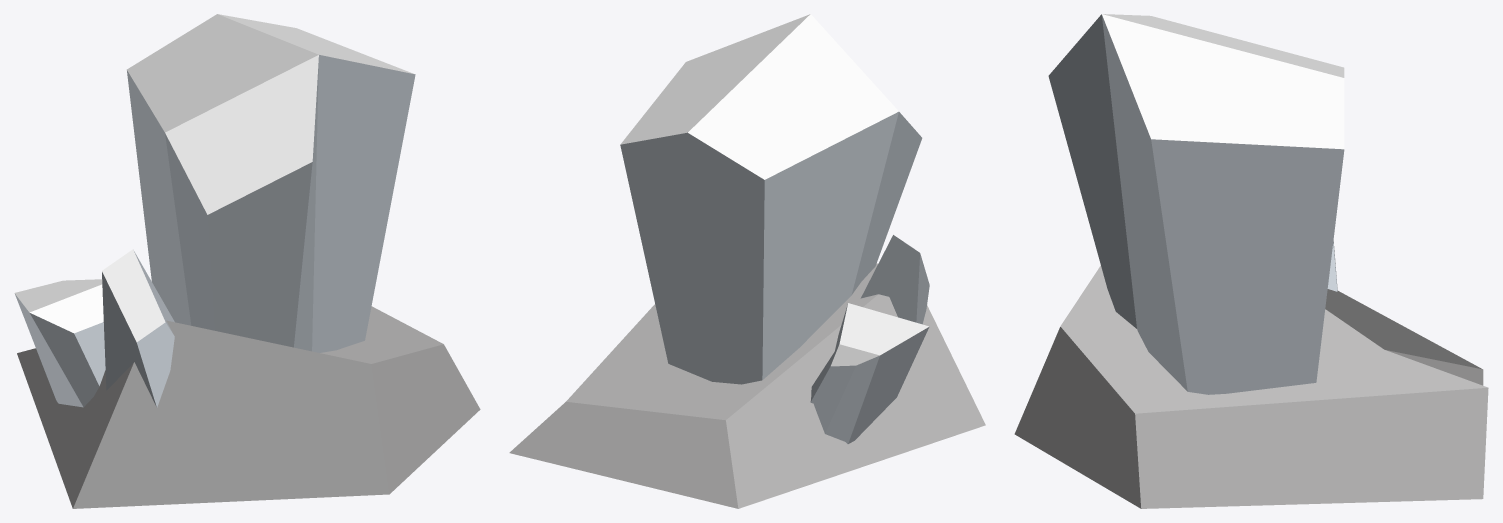
File: Crystal1.fbx
3 renders of one model, left to right at view 1: azimuth 30°, elevation 25°; view 2: azimuth 150°, elevation 25°; view 3: azimuth 270°, elevation 25°, orthographic. The views are drawn at different scales.
Parts seen in each view (by area): view 1: Crystal1; view 2: Crystal1; view 3: Crystal1.
Part boxes in pixels (box(x1,y1,x2,y2)): Crystal1: box(14, 14, 480, 508); Crystal1: box(509, 14, 985, 508); Crystal1: box(1014, 14, 1488, 508).
Size of the model in its own units: 1.05 by 1.02 by 1.07.
